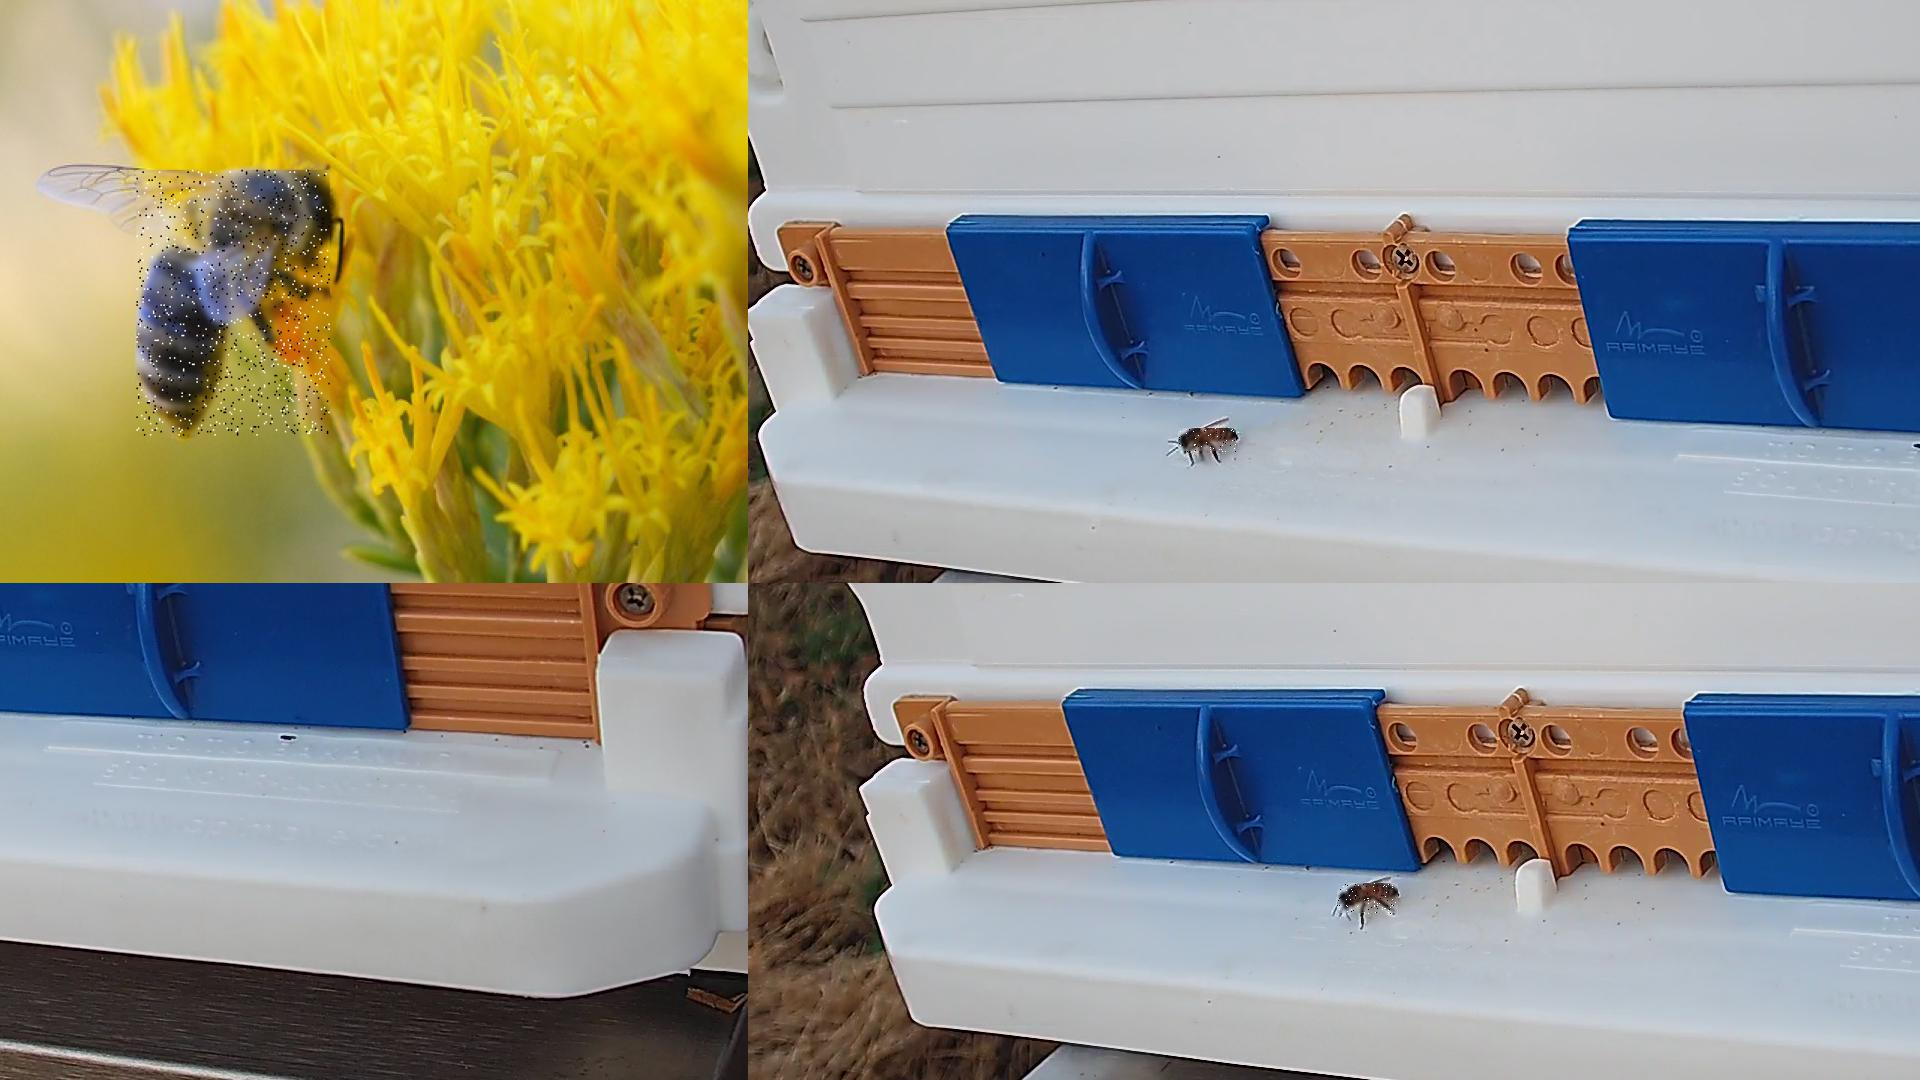bee: (1337, 884, 1399, 916), (1179, 429, 1237, 454)
pollenbee: (137, 171, 331, 439)
